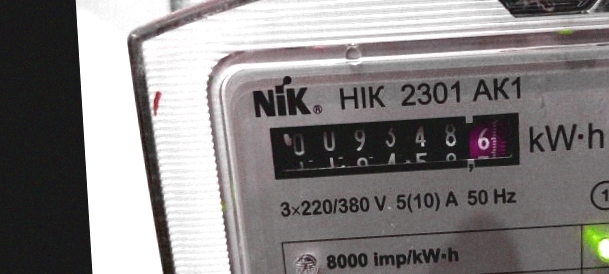0: (320, 128, 337, 152), (290, 130, 305, 156)
3: (381, 123, 397, 150)
4: (411, 121, 427, 149)
6: (473, 124, 492, 152)
8: (441, 120, 458, 149)
9: (350, 126, 367, 153)
screen: (259, 104, 531, 189)
